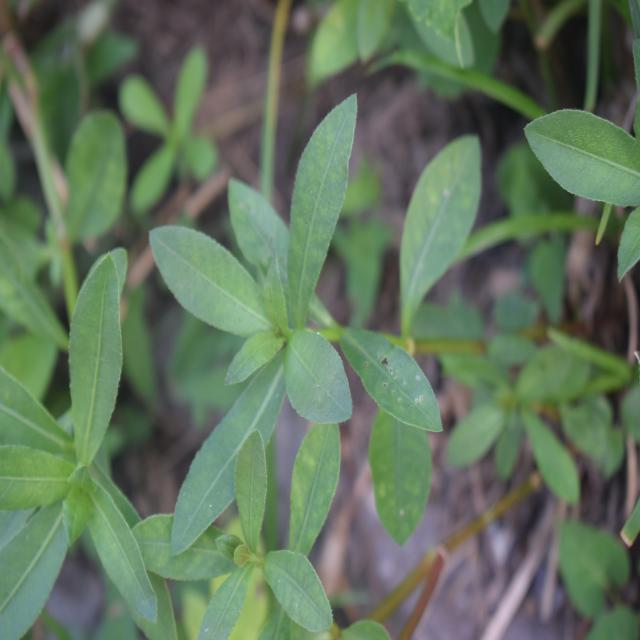Alligatorweed: (136, 93, 458, 543), (0, 242, 162, 634)
